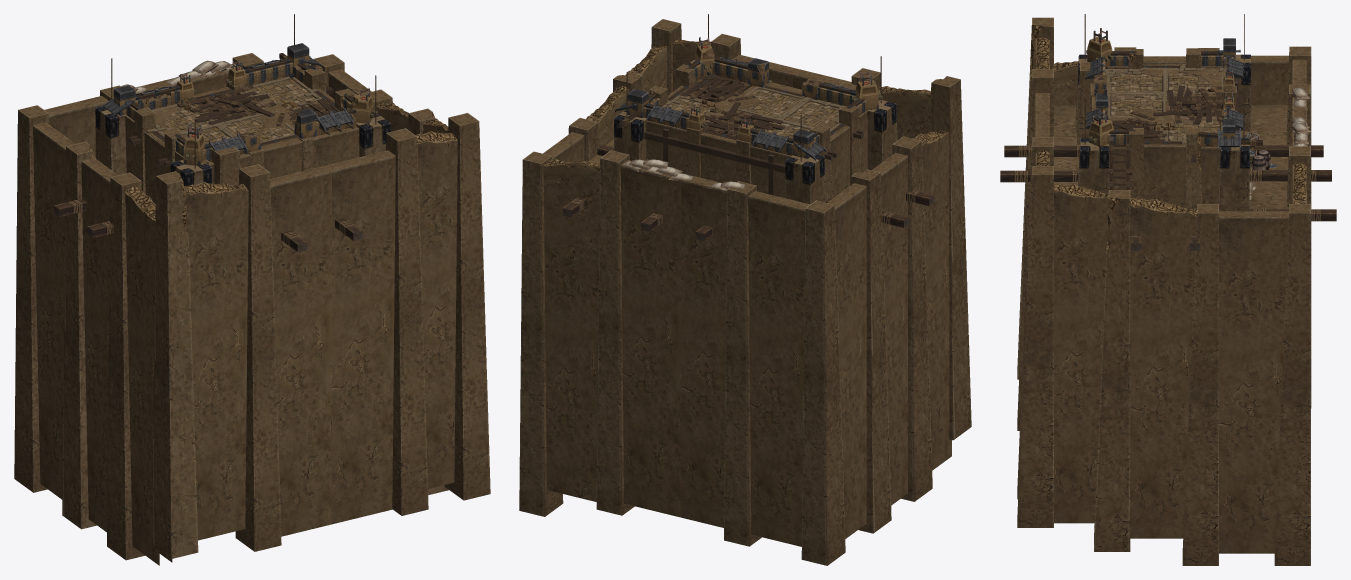
The model's file is Cell4.fbx.
3 views of the same model, side by side, from view 1: azimuth 30°, elevation 25°; view 2: azimuth 150°, elevation 25°; view 3: azimuth 270°, elevation 25° (orthographic). The views are drawn at different scales.
Parts seen in each view (by area): view 1: Cell4; view 2: Cell4; view 3: Cell4.
Part boxes in pixels (x1,y1,x2,y2): Cell4: (14,14,490,565); Cell4: (519,14,971,565); Cell4: (1000,14,1336,565).
Bounding box in the file's own units: 40.25 × 49.71 × 35.18.
